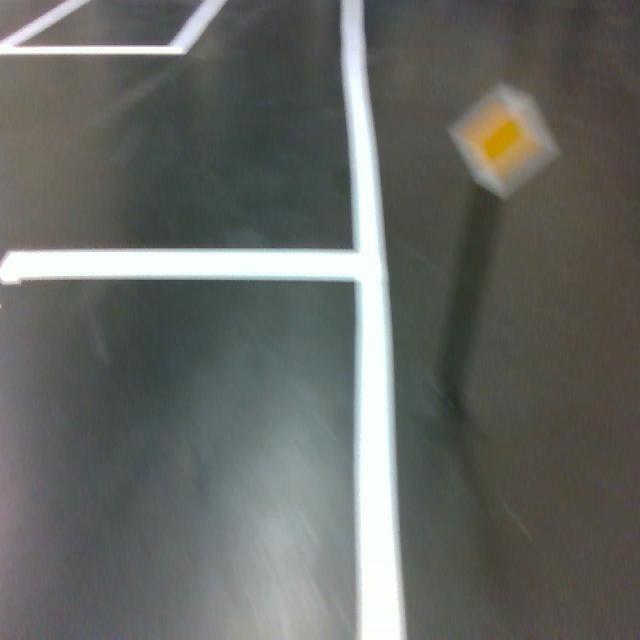priority-sign: (443, 79, 563, 204)
